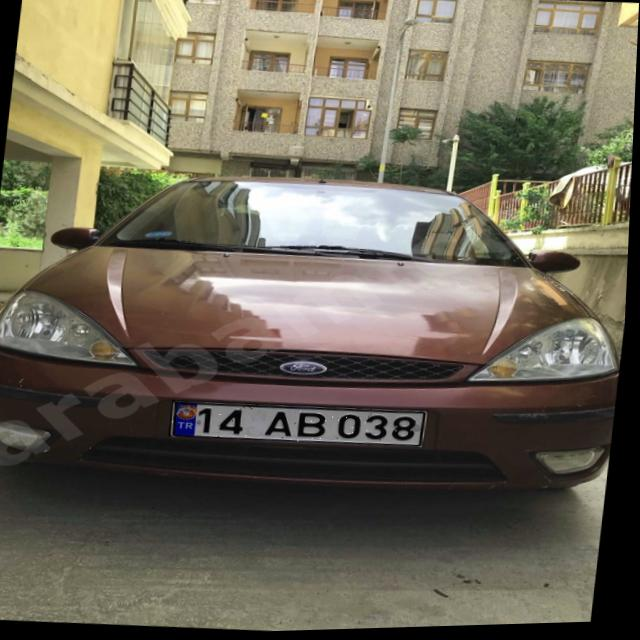license_plate: (171, 395, 431, 455)
